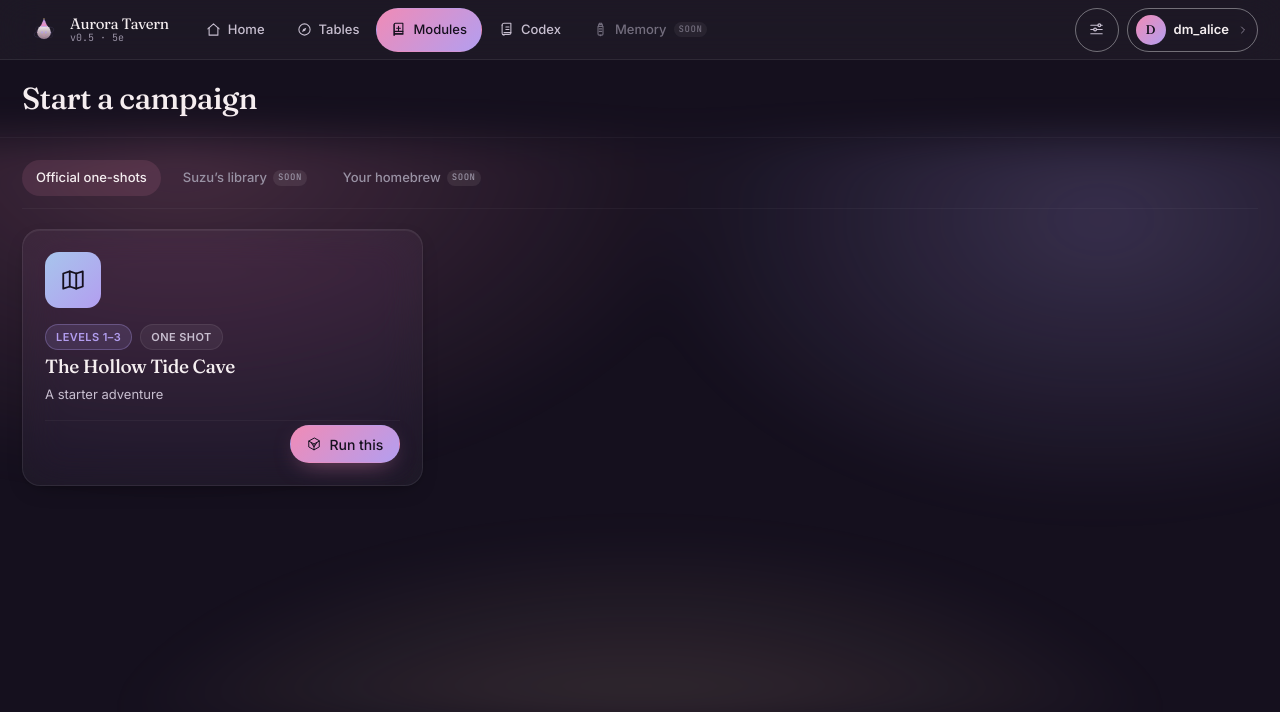
Test: S5.5-AC6 — StarterForm: ai_assist_level fieldset hidden when Suzu DMs (ai mode) › no AI narration level choices shown; lock hint visible
The width and height of the screenshot is (1280, 712).
Expected: the heading "The Hollow Tide Cave" is shown, [45,354,235,378]
Click the button with aria-label "Run this — The Hollow Tide Cave" at (345, 444), box [290,425,400,463]
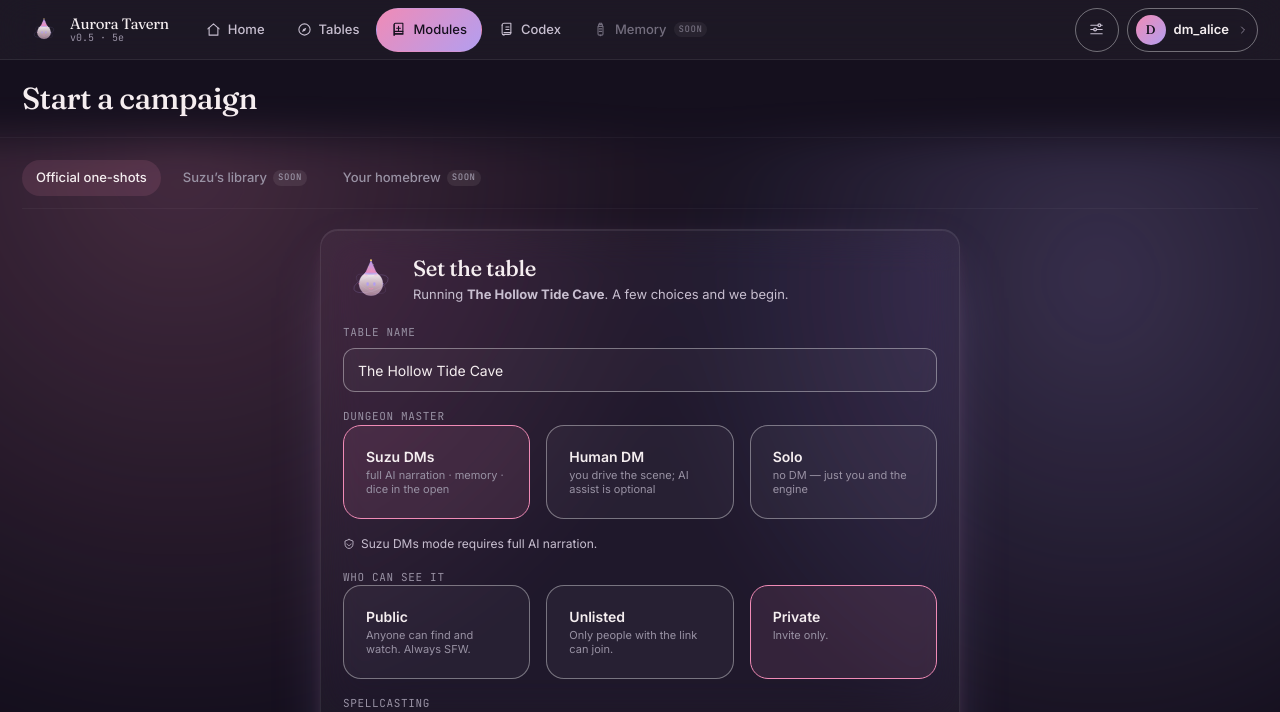
Result: the heading "Set the table" is shown at [413,254,536,282]
Result: the text "Suzu DMs mode requires full AI narration." is shown at [343,536,597,551]
